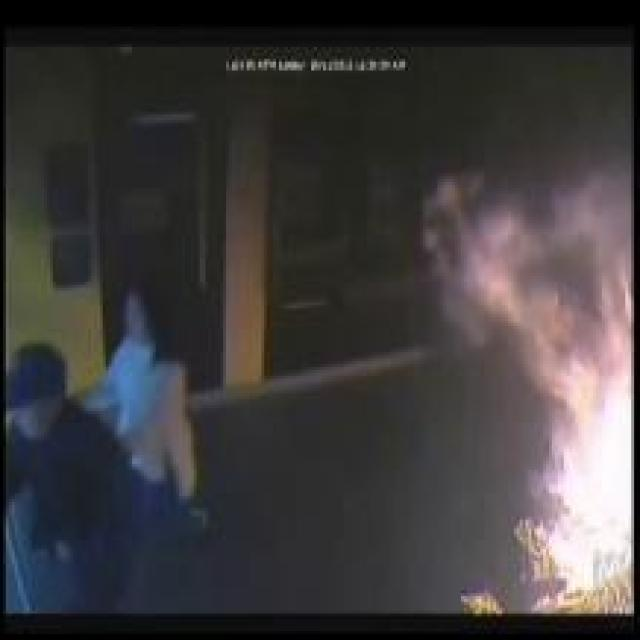smoke: (402, 152, 631, 610)
